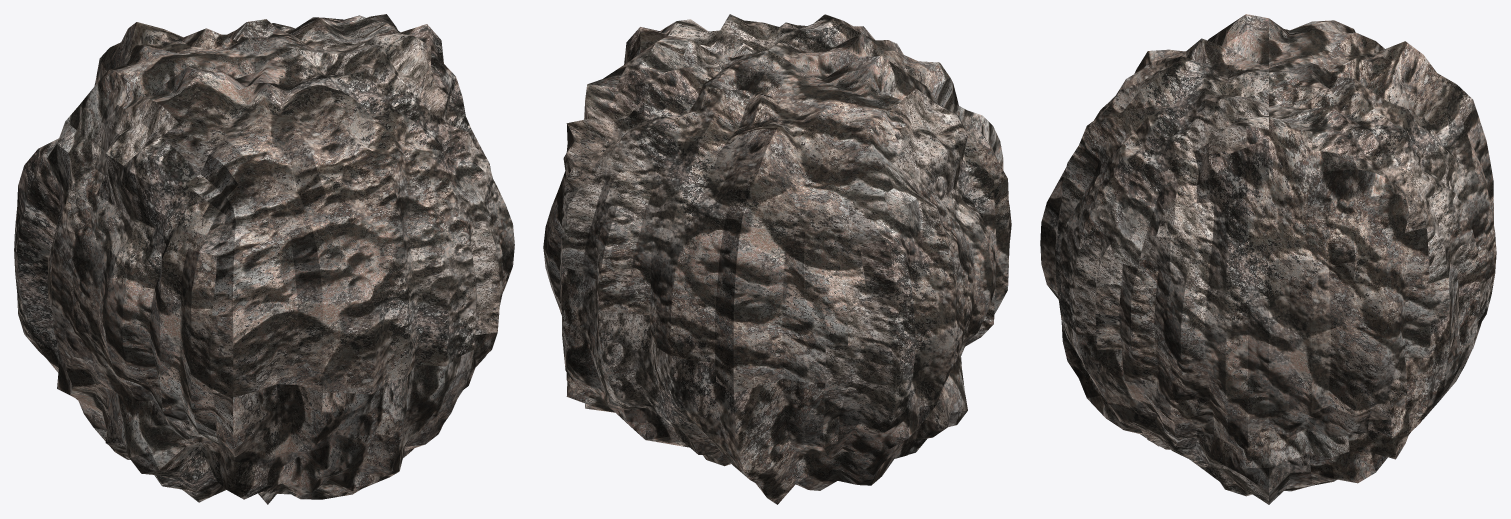
The model's file is asteroid152.obj.
The picture shows the model from 3 angles, left to right: view 1: azimuth 30°, elevation 25°; view 2: azimuth 150°, elevation 25°; view 3: azimuth 270°, elevation 25°; orthographic projection. The views are drawn at different scales.
Parts seen in each view (by area): view 1: Cube_Cube.002; view 2: Cube_Cube.002; view 3: Cube_Cube.002.
Boxes of the visible parts, x1,y1,x2,y2 form: Cube_Cube.002: (14, 14, 514, 504); Cube_Cube.002: (543, 14, 1011, 504); Cube_Cube.002: (1040, 14, 1496, 504).
Size of the model in its own units: 1.67 by 1.73 by 1.79.
